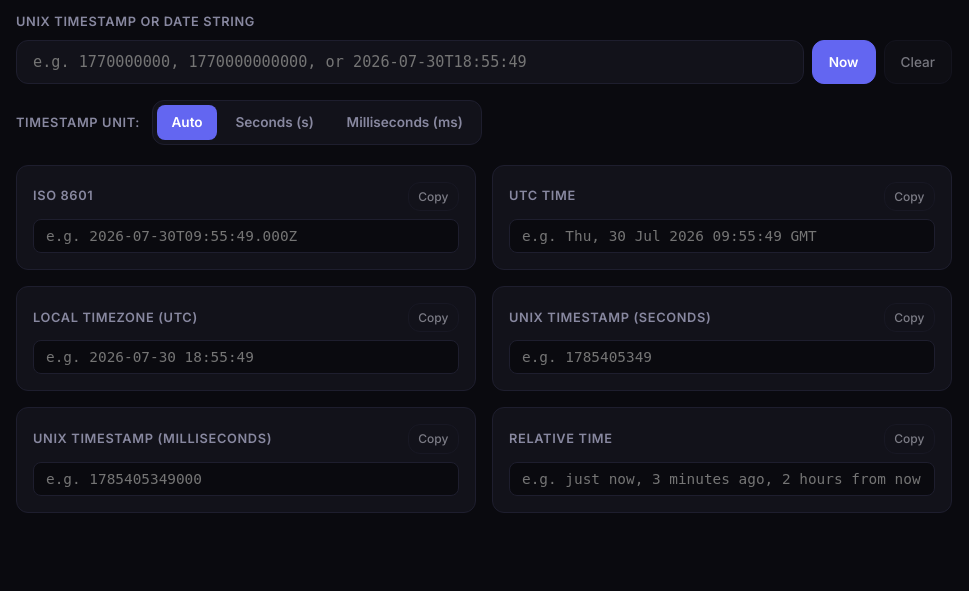
Scenario: TimestampTool real-time conversion › converts Unix timestamp in seconds to ISO, UTC, Local, and Relative time
Type "1785412800" into the field labelled "Unix Timestamp or Date String" at (410, 62), box [16,40,804,84]
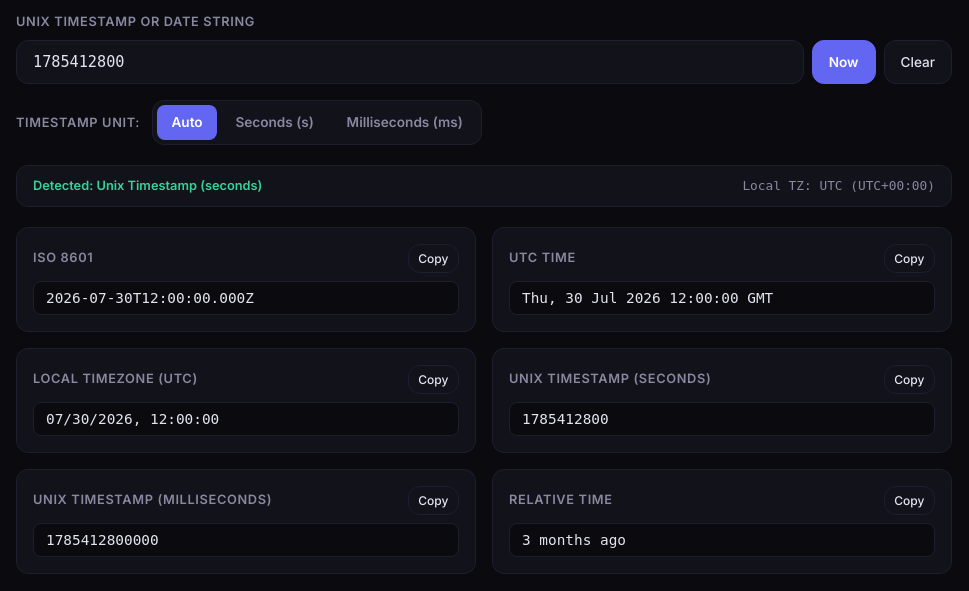
Result: the field labelled "ISO 8601" holds "2026-07-30T12:00:00.000Z" at [33,281,459,315]
Result: the field labelled "UTC Time" holds "Thu, 30 Jul 2026 12:00:00 GMT" at [509,281,935,315]
Result: the field labelled "Unix Timestamp (Seconds)" holds "1785412800" at [509,402,935,436]
